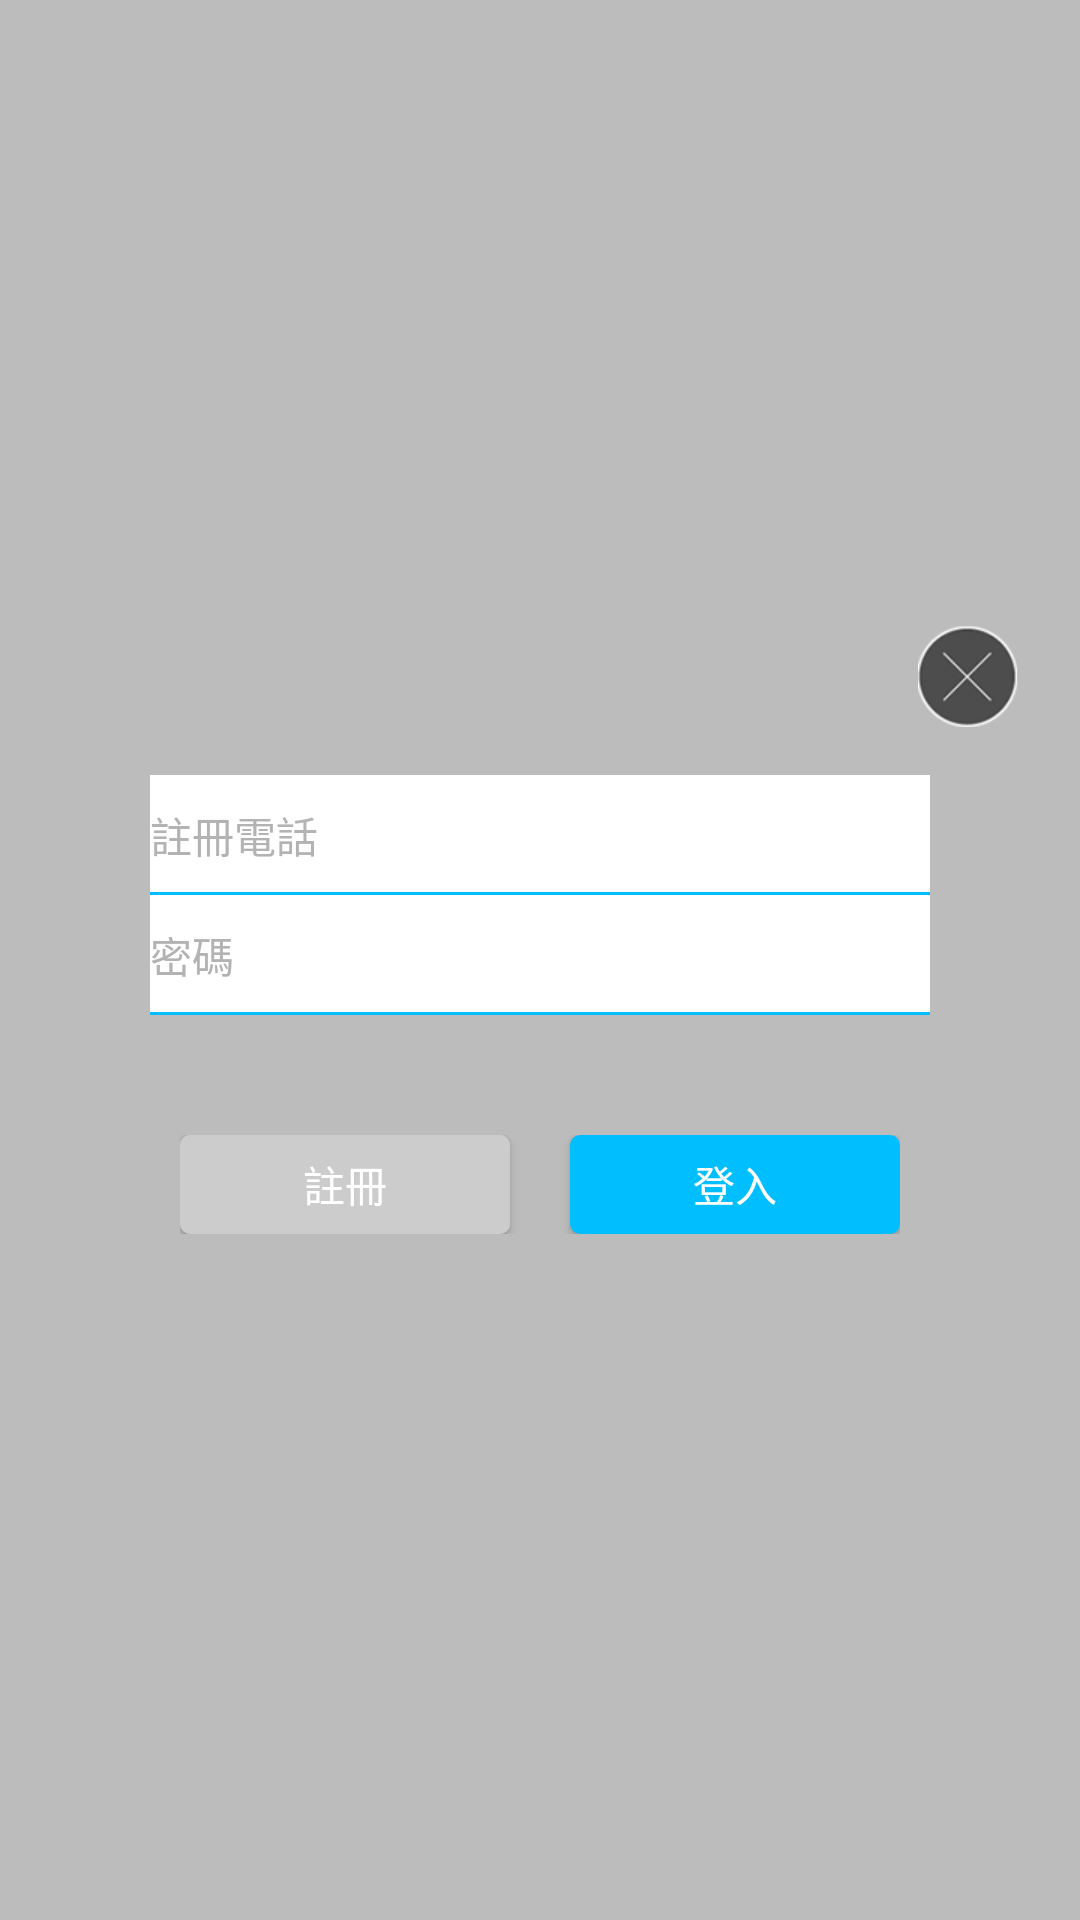

Locate icon controls on the screen. Image size 1080×1920, boxes as bbox=[x1, y1, x2, y2].
close: bbox=[918, 626, 1017, 727]
